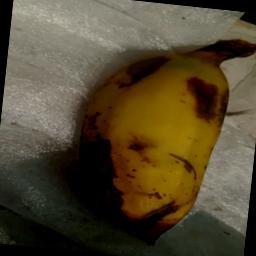Banana Overripe: (61, 15, 256, 256)
